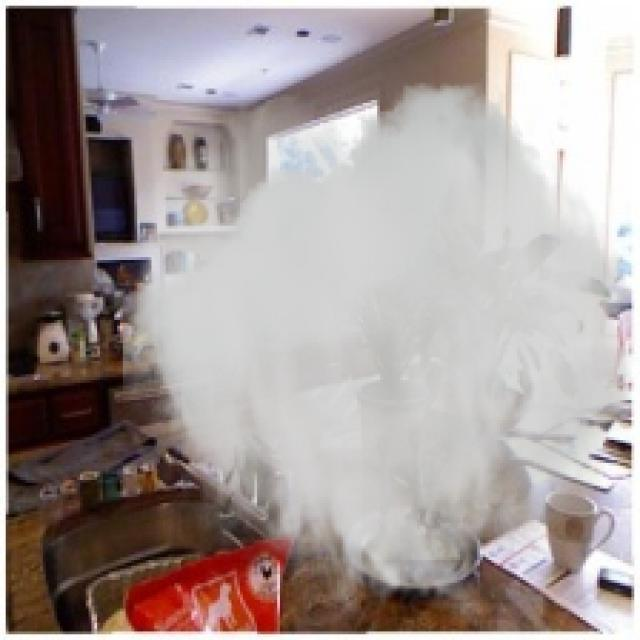Smoke: (122, 83, 638, 632)
